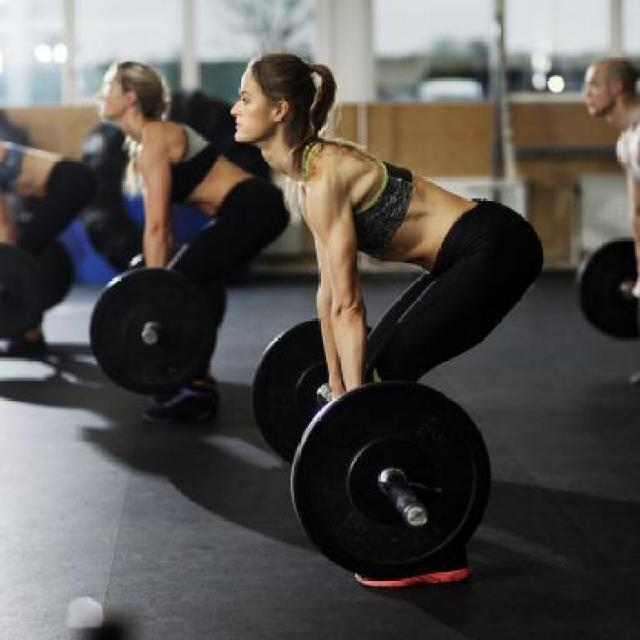Barbell: (400, 499, 434, 530)
